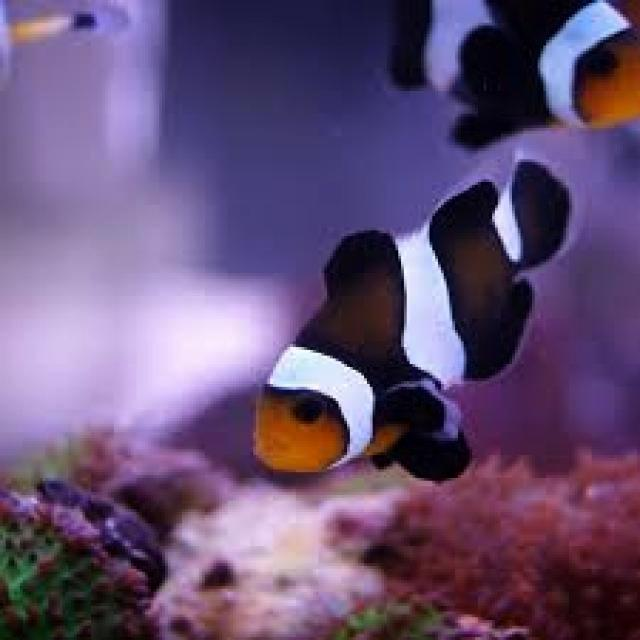ClownFish: (251, 155, 583, 482), (394, 7, 640, 149)
